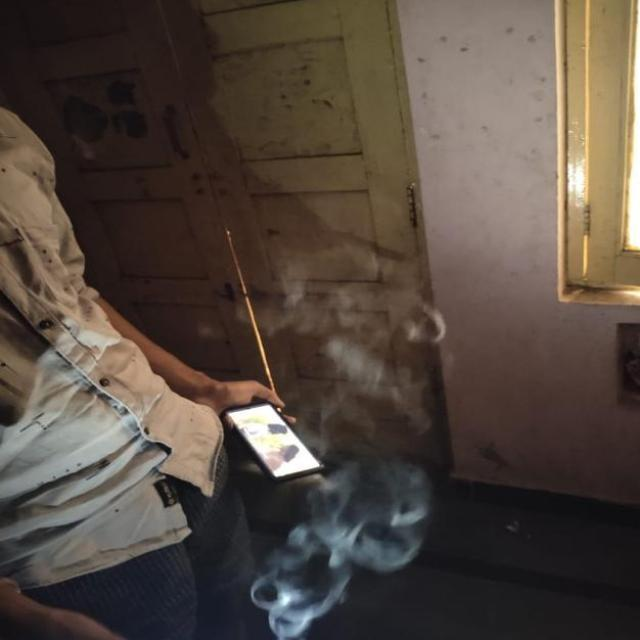fire: (242, 461, 430, 640), (266, 241, 450, 342), (312, 338, 434, 435)
